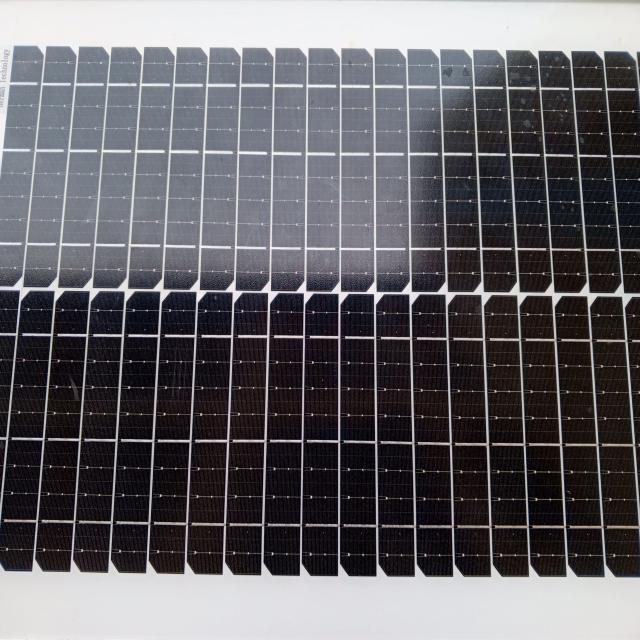Clean: (4, 30, 638, 592)
